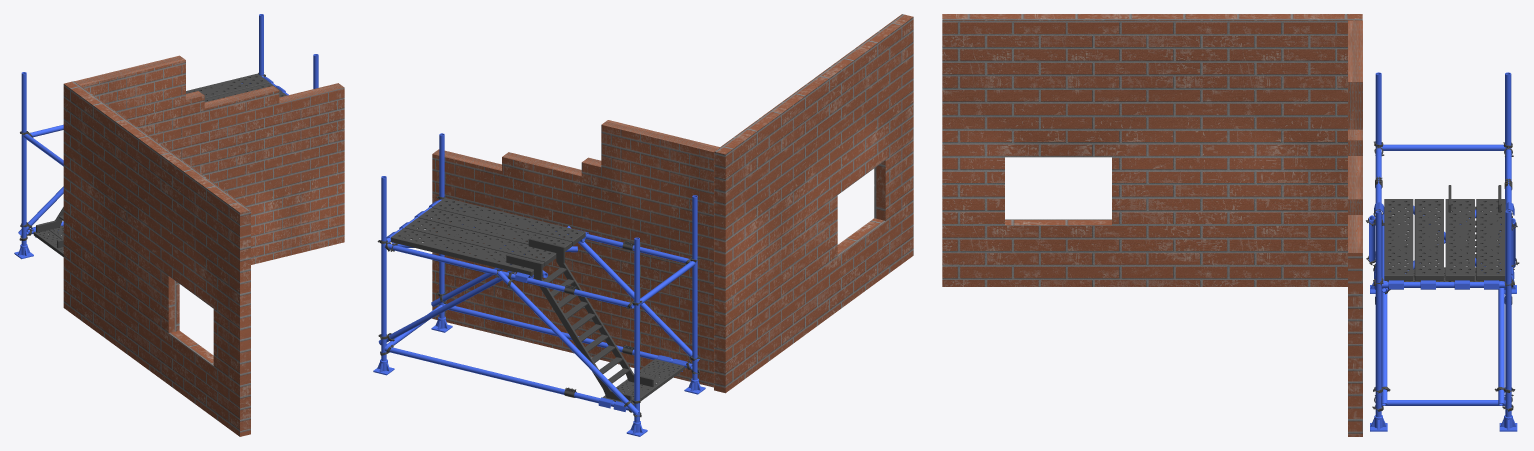
File: scaffolding.fbx
The picture shows the model from 3 angles, left to right: view 1: azimuth 30°, elevation 25°; view 2: azimuth 150°, elevation 25°; view 3: azimuth 270°, elevation 25°; orthographic projection. The views are drawn at different scales.
Visible parts, largest first — view 1: polySurface47, pCube38, scaffolding1_Sixmetre_ground_stick1_group8_pCylinder1; view 2: polySurface47, pCube38, scaffolding1_Sixmetre_ground_stick1_group8_pCylinder1; view 3: polySurface47, scaffolding1_Sixmetre_ground_stick1_group8_pCylinder1, pCube38.
Part boxes in pixels (x1,y1,x2,y2): polySurface47: [63, 81, 250, 436]; pCube38: [75, 55, 344, 264]; scaffolding1_Sixmetre_ground_stick1_group8_pCylinder1: [14, 14, 318, 259]; polySurface47: [714, 14, 913, 393]; pCube38: [432, 120, 719, 387]; scaffolding1_Sixmetre_ground_stick1_group8_pCylinder1: [373, 133, 705, 436]; polySurface47: [942, 14, 1362, 286]; scaffolding1_Sixmetre_ground_stick1_group8_pCylinder1: [1366, 72, 1519, 431]; pCube38: [1348, 20, 1362, 436].
Bounding box in the file's own units: 0.1465 × 0.1141 × 0.2237.
5 materials, 1 textured.
